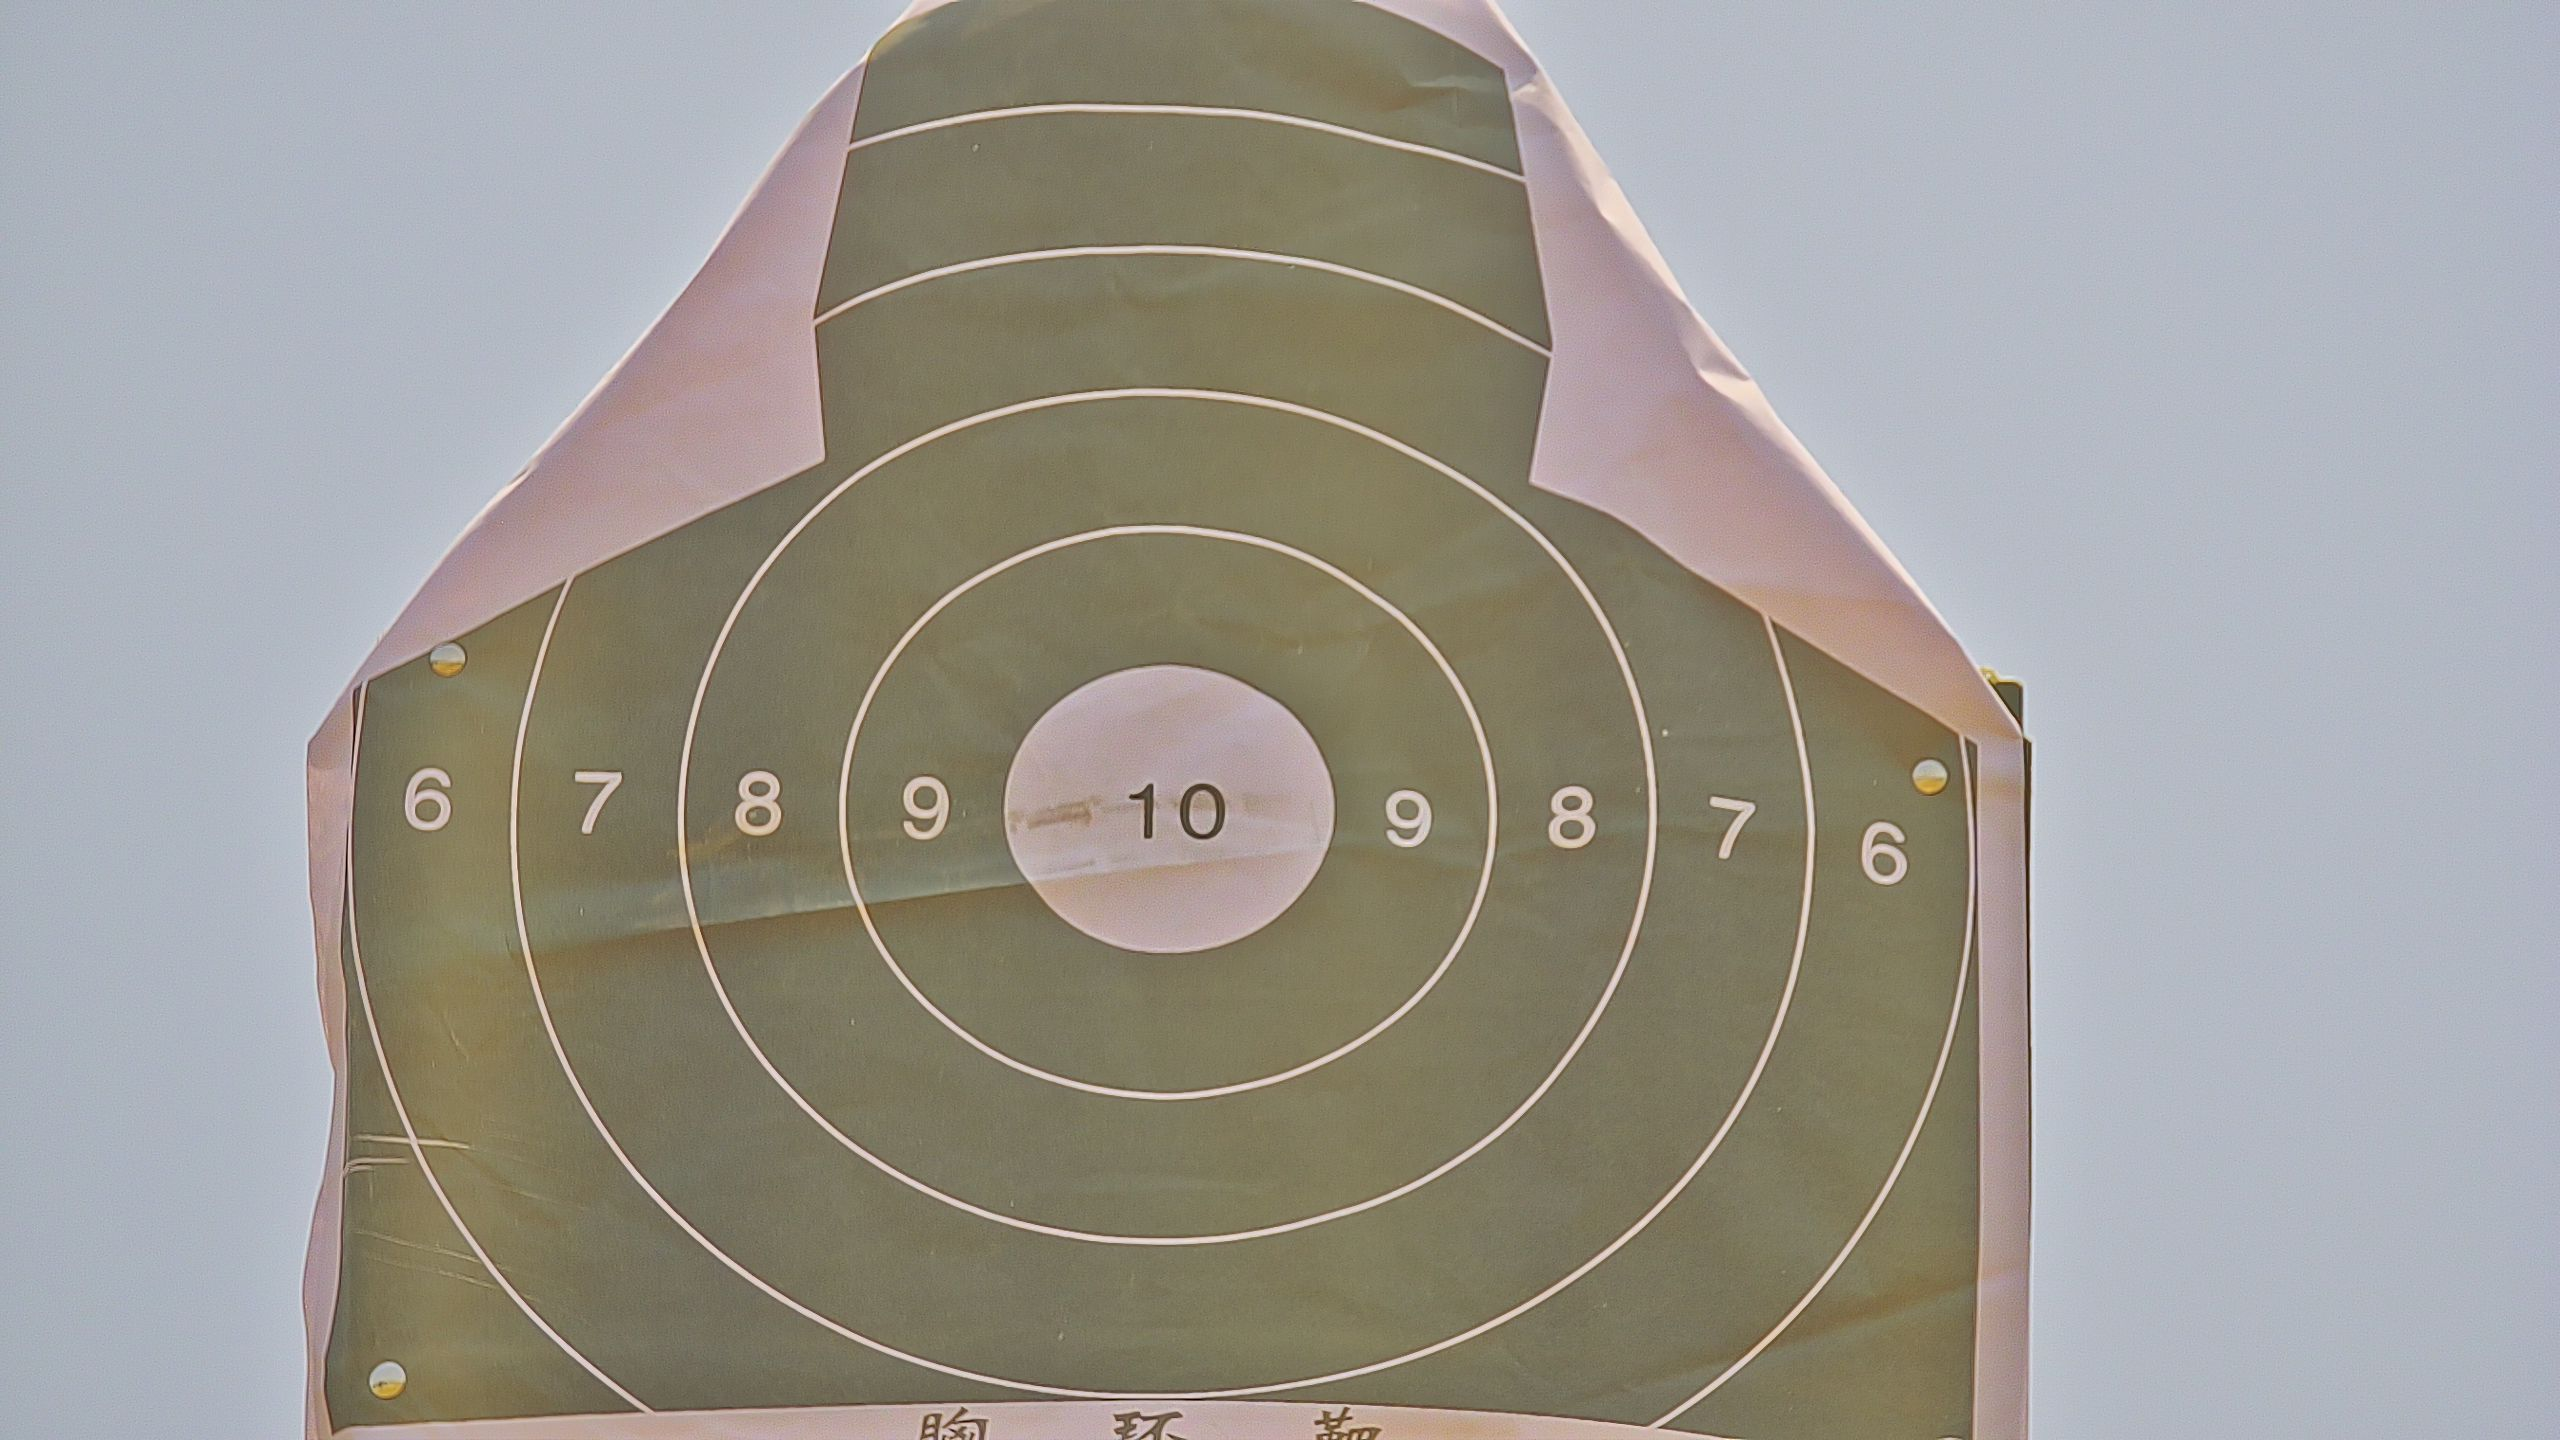kernel: (1164, 812, 1171, 823)
target: (334, 7, 1976, 1440)
ten: (995, 654, 1335, 958)
